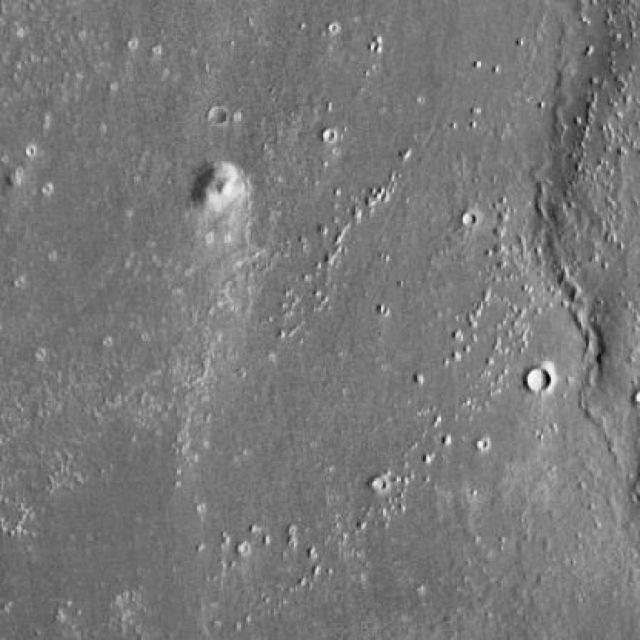crater: (527, 367, 550, 390), (207, 107, 224, 124)
